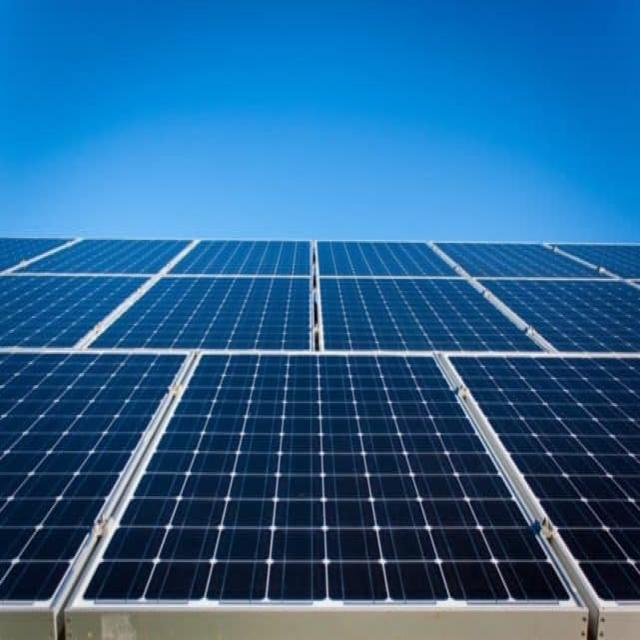clean-solar-panel: (1, 238, 640, 636)
